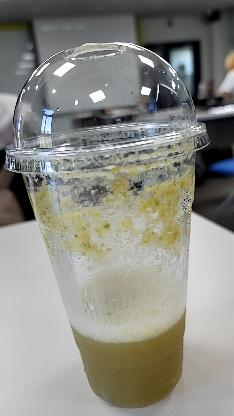Plastic Cup: (1, 40, 210, 410), (0, 42, 212, 174)
